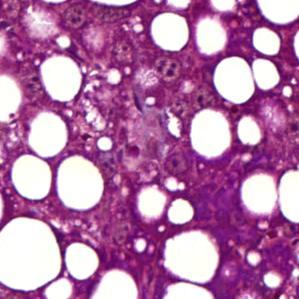steatosis: (0, 215, 61, 292), (160, 230, 224, 282), (57, 156, 108, 210), (211, 54, 256, 105), (39, 54, 88, 100), (24, 110, 68, 157), (190, 110, 233, 158), (11, 154, 52, 199), (64, 240, 101, 281), (151, 12, 190, 50)
